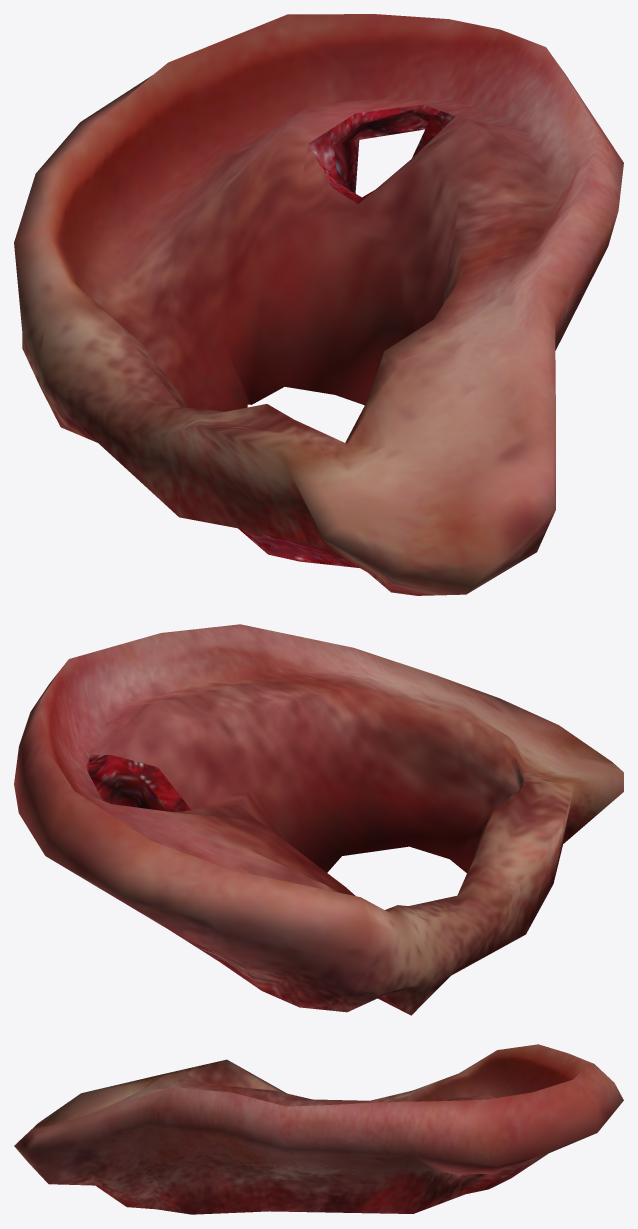
The model's file is Ear_3.fbx.
The picture shows the model from 3 angles, top to bottom: view 1: azimuth 30°, elevation 25°; view 2: azimuth 150°, elevation 25°; view 3: azimuth 270°, elevation 25°; orthographic projection. The views are drawn at different scales.
Visible parts, largest first — view 1: Ear_3; view 2: Ear_3; view 3: Ear_3.
Part boxes in pixels (x1,y1,x2,y2): Ear_3: (14,14,623,595); Ear_3: (14,624,623,1015); Ear_3: (14,1044,623,1214).
Bounding box in the file's own units: 0.0292 × 0.0175 × 0.0457.
